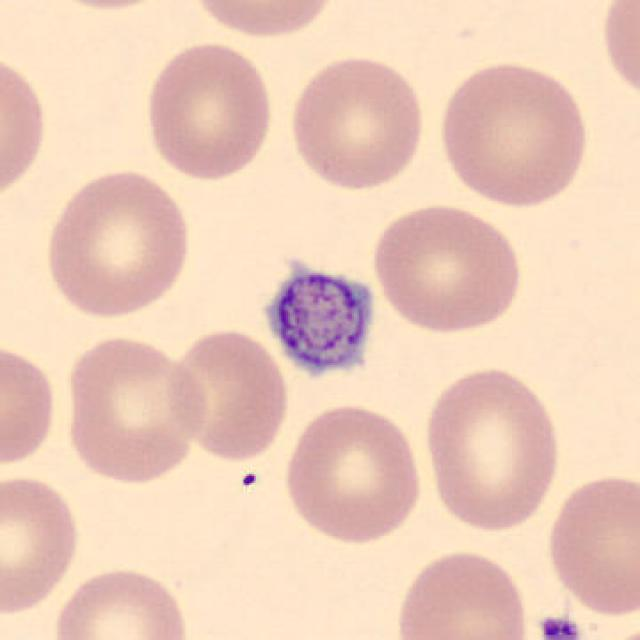Platelets: (260, 254, 378, 382), (535, 612, 583, 640)
RBC: (420, 362, 566, 534), (434, 56, 594, 210), (39, 166, 196, 321), (59, 329, 210, 486), (368, 199, 526, 337), (279, 400, 427, 547), (284, 51, 430, 194), (140, 37, 278, 183), (162, 324, 293, 466), (542, 469, 640, 619), (391, 545, 533, 640), (0, 469, 84, 619), (50, 562, 194, 640), (0, 48, 52, 208), (0, 336, 60, 474), (185, 0, 343, 41), (597, 0, 639, 109), (29, 0, 183, 14)
